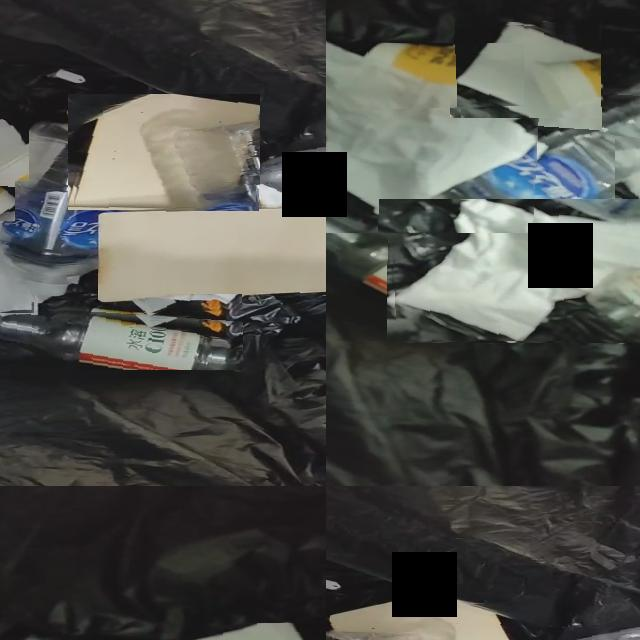bottle: (326, 199, 553, 341), (419, 96, 640, 237), (0, 309, 243, 370), (249, 148, 326, 199)
carton: (73, 94, 260, 209), (99, 209, 326, 300), (330, 595, 509, 640)
dixie_cup: (368, 43, 524, 107)
paper: (326, 41, 540, 233), (394, 199, 640, 342), (459, 25, 601, 118), (134, 294, 239, 314), (0, 120, 29, 170), (257, 185, 309, 206), (262, 188, 303, 205)
